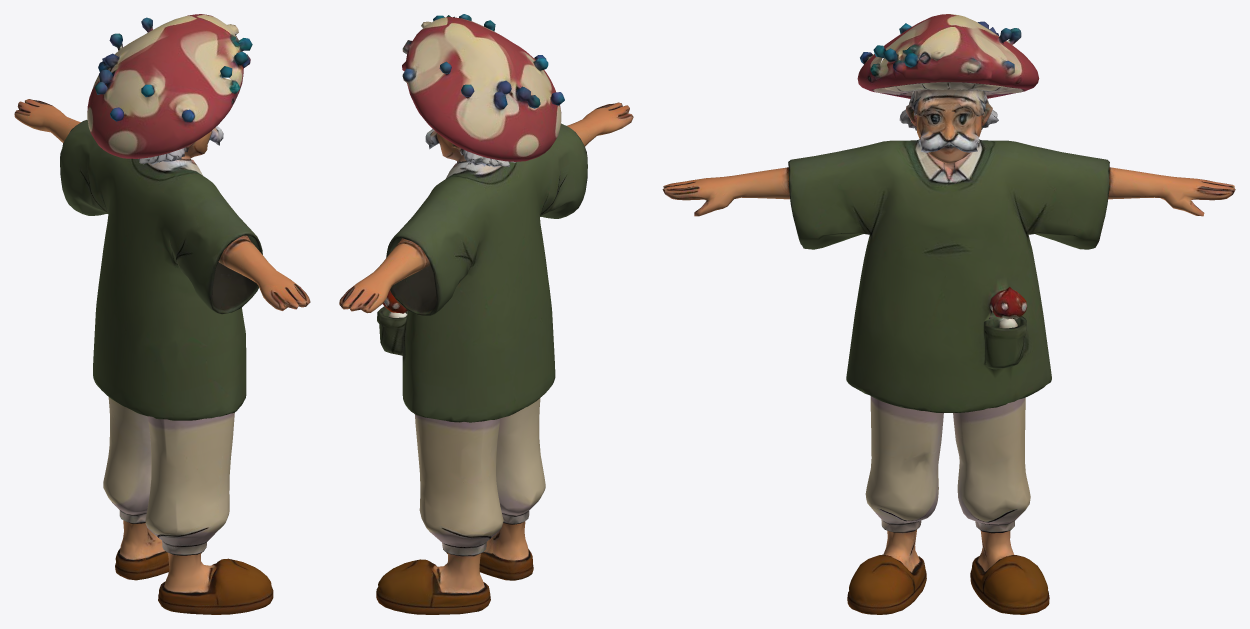
File: n2_caretaker.ea871c67.glb
3 renders of one model, left to right at view 1: azimuth 30°, elevation 25°; view 2: azimuth 150°, elevation 25°; view 3: azimuth 270°, elevation 25°, orthographic. The views are drawn at different scales.
Visible parts, largest first — view 1: tripo_node_e001a19e-18fb-4a5a-b596-a1d9e7a415ff; view 2: tripo_node_e001a19e-18fb-4a5a-b596-a1d9e7a415ff; view 3: tripo_node_e001a19e-18fb-4a5a-b596-a1d9e7a415ff.
Boxes of the visible parts, x1,y1,x2,y2 form: tripo_node_e001a19e-18fb-4a5a-b596-a1d9e7a415ff: (14,14,310,614); tripo_node_e001a19e-18fb-4a5a-b596-a1d9e7a415ff: (339,14,633,614); tripo_node_e001a19e-18fb-4a5a-b596-a1d9e7a415ff: (662,14,1235,614).
Size of the model in its own units: 0.266 by 1 by 0.9033.
Materials: 1 (1 with a texture image).
